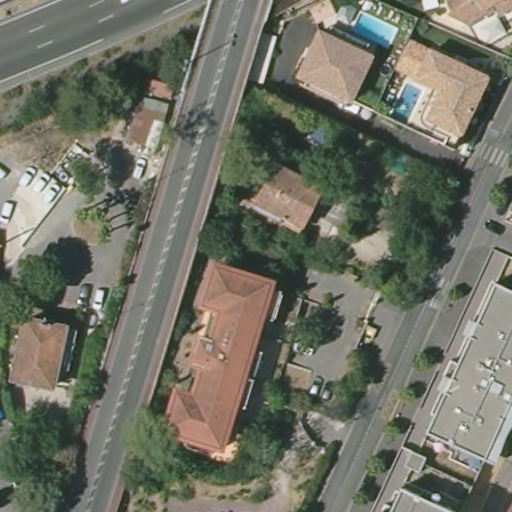pool: (348, 8, 398, 51), (397, 84, 422, 123)
